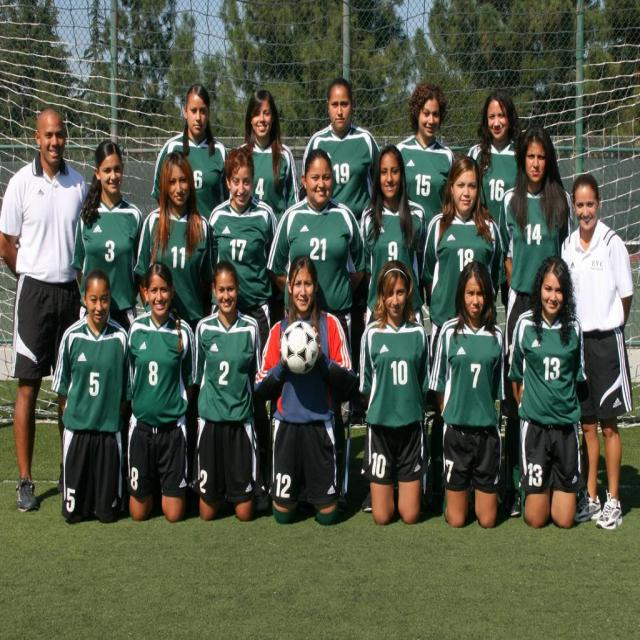Face: (34, 109, 70, 178), (243, 91, 277, 156), (84, 271, 113, 339), (160, 151, 194, 209), (380, 267, 415, 323), (535, 260, 573, 311), (372, 148, 404, 208), (144, 264, 174, 327), (285, 264, 319, 318), (416, 90, 449, 145), (223, 154, 255, 209), (93, 144, 126, 197), (307, 155, 341, 206), (451, 154, 478, 215), (212, 268, 243, 321), (521, 139, 552, 192), (183, 85, 211, 143), (459, 274, 493, 321), (326, 85, 357, 136), (486, 93, 511, 146), (576, 184, 599, 234)
